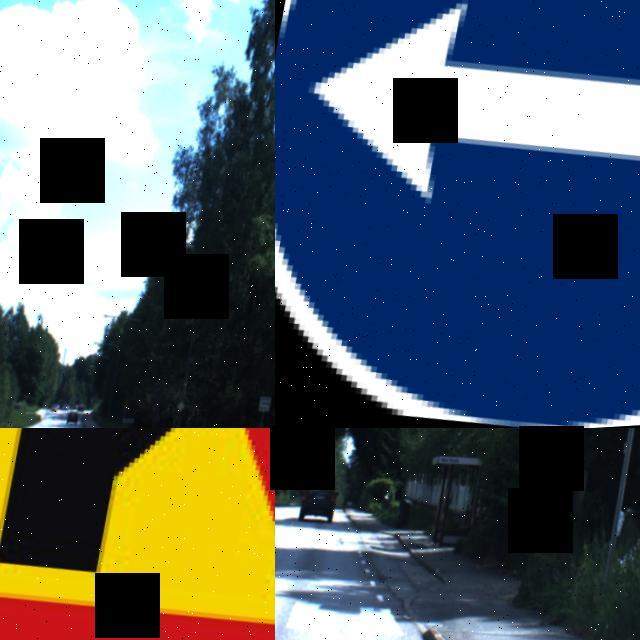166: (0, 428, 275, 640)
57: (178, 401, 190, 418)
Turn left: (275, 0, 640, 428)
